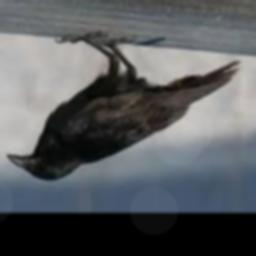Crow: (7, 32, 244, 181)
